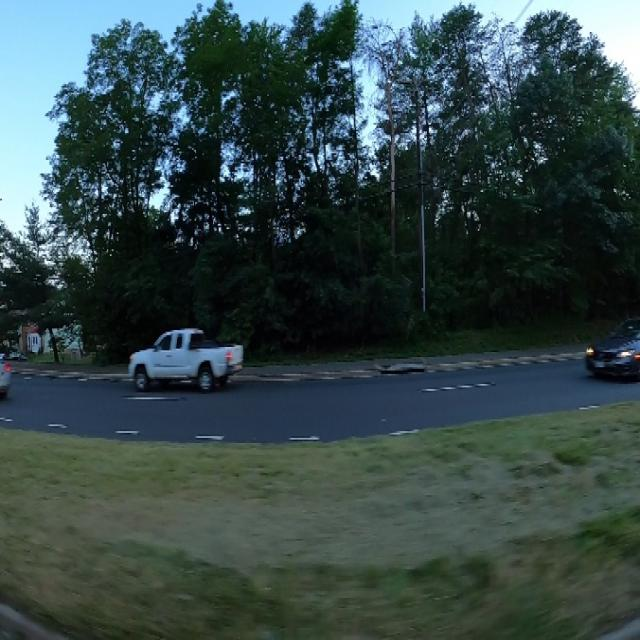car: (118, 315, 252, 397), (581, 300, 640, 389)
